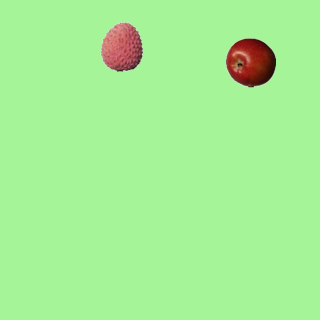Apple Braeburn: (225, 37, 275, 87)
Lychee: (96, 21, 146, 71)
